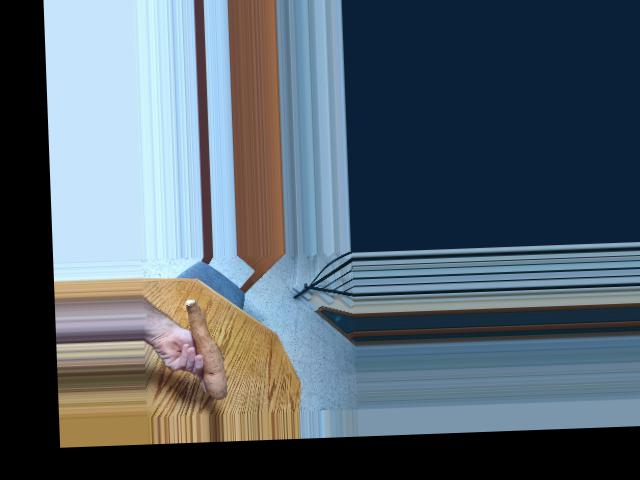sweet_potato: (184, 294, 234, 397)
